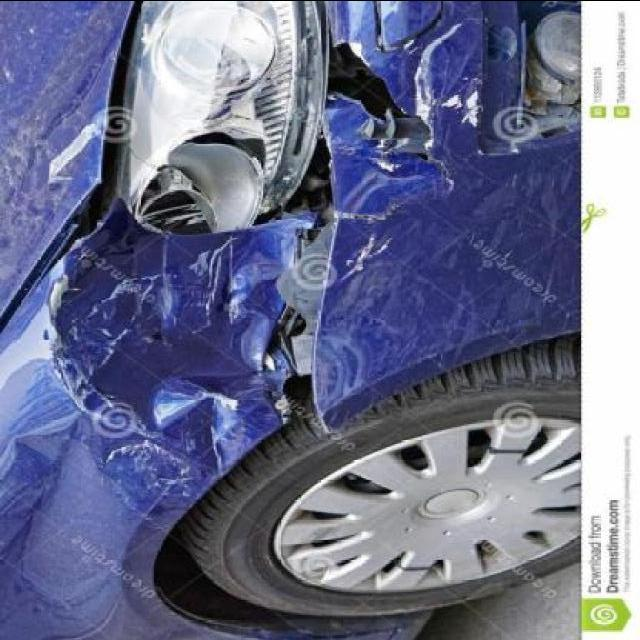Headlight-Damage: (76, 0, 369, 238)
fender-dent: (0, 240, 401, 640)
front-bumper-dent: (261, 0, 585, 447)
